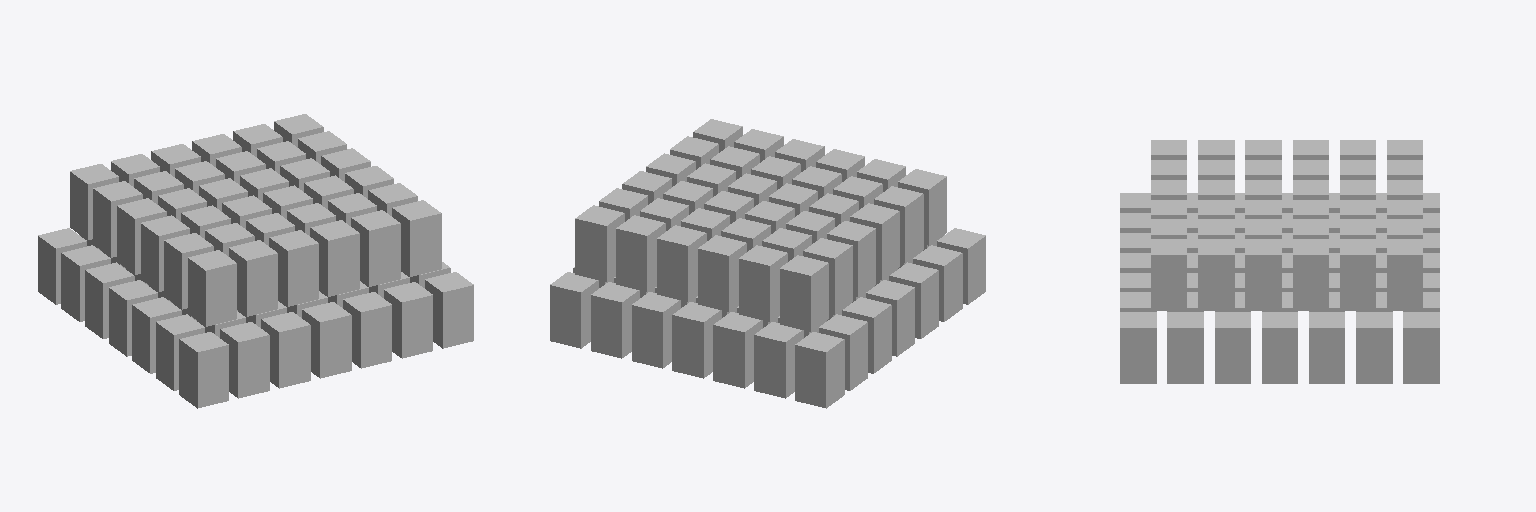
File: GreedModuleLamp(L)(0).obj
3 views of the same model, side by side, from view 1: azimuth 30°, elevation 25°; view 2: azimuth 150°, elevation 25°; view 3: azimuth 270°, elevation 25° (orthographic).
Visible parts, largest first — view 1: lamps_Cube.098; view 2: lamps_Cube.098; view 3: lamps_Cube.098.
Boxes of the visible parts, <box> form: lamps_Cube.098: <box>38,114,473,408</box>; lamps_Cube.098: <box>550,119,985,408</box>; lamps_Cube.098: <box>1120,140,1439,383</box>.
Size of the model in its own units: 10.31 by 4.3 by 10.31.